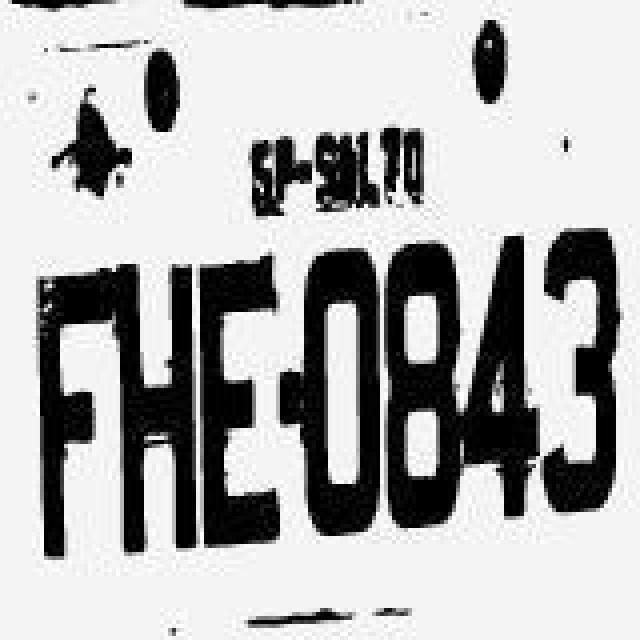3: (536, 228, 624, 516)
4: (460, 232, 548, 520)
8: (382, 240, 466, 528)
E: (192, 258, 288, 550)
F: (30, 262, 114, 562)
H: (110, 254, 194, 546)
O: (302, 246, 386, 538)
